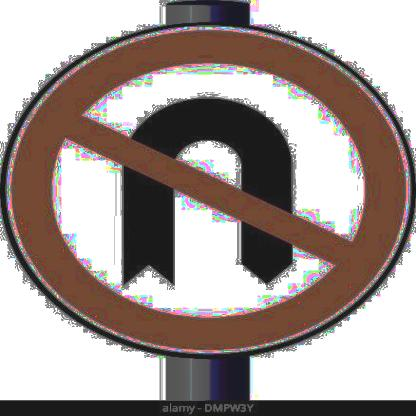No U-turn: (0, 19, 412, 358)
